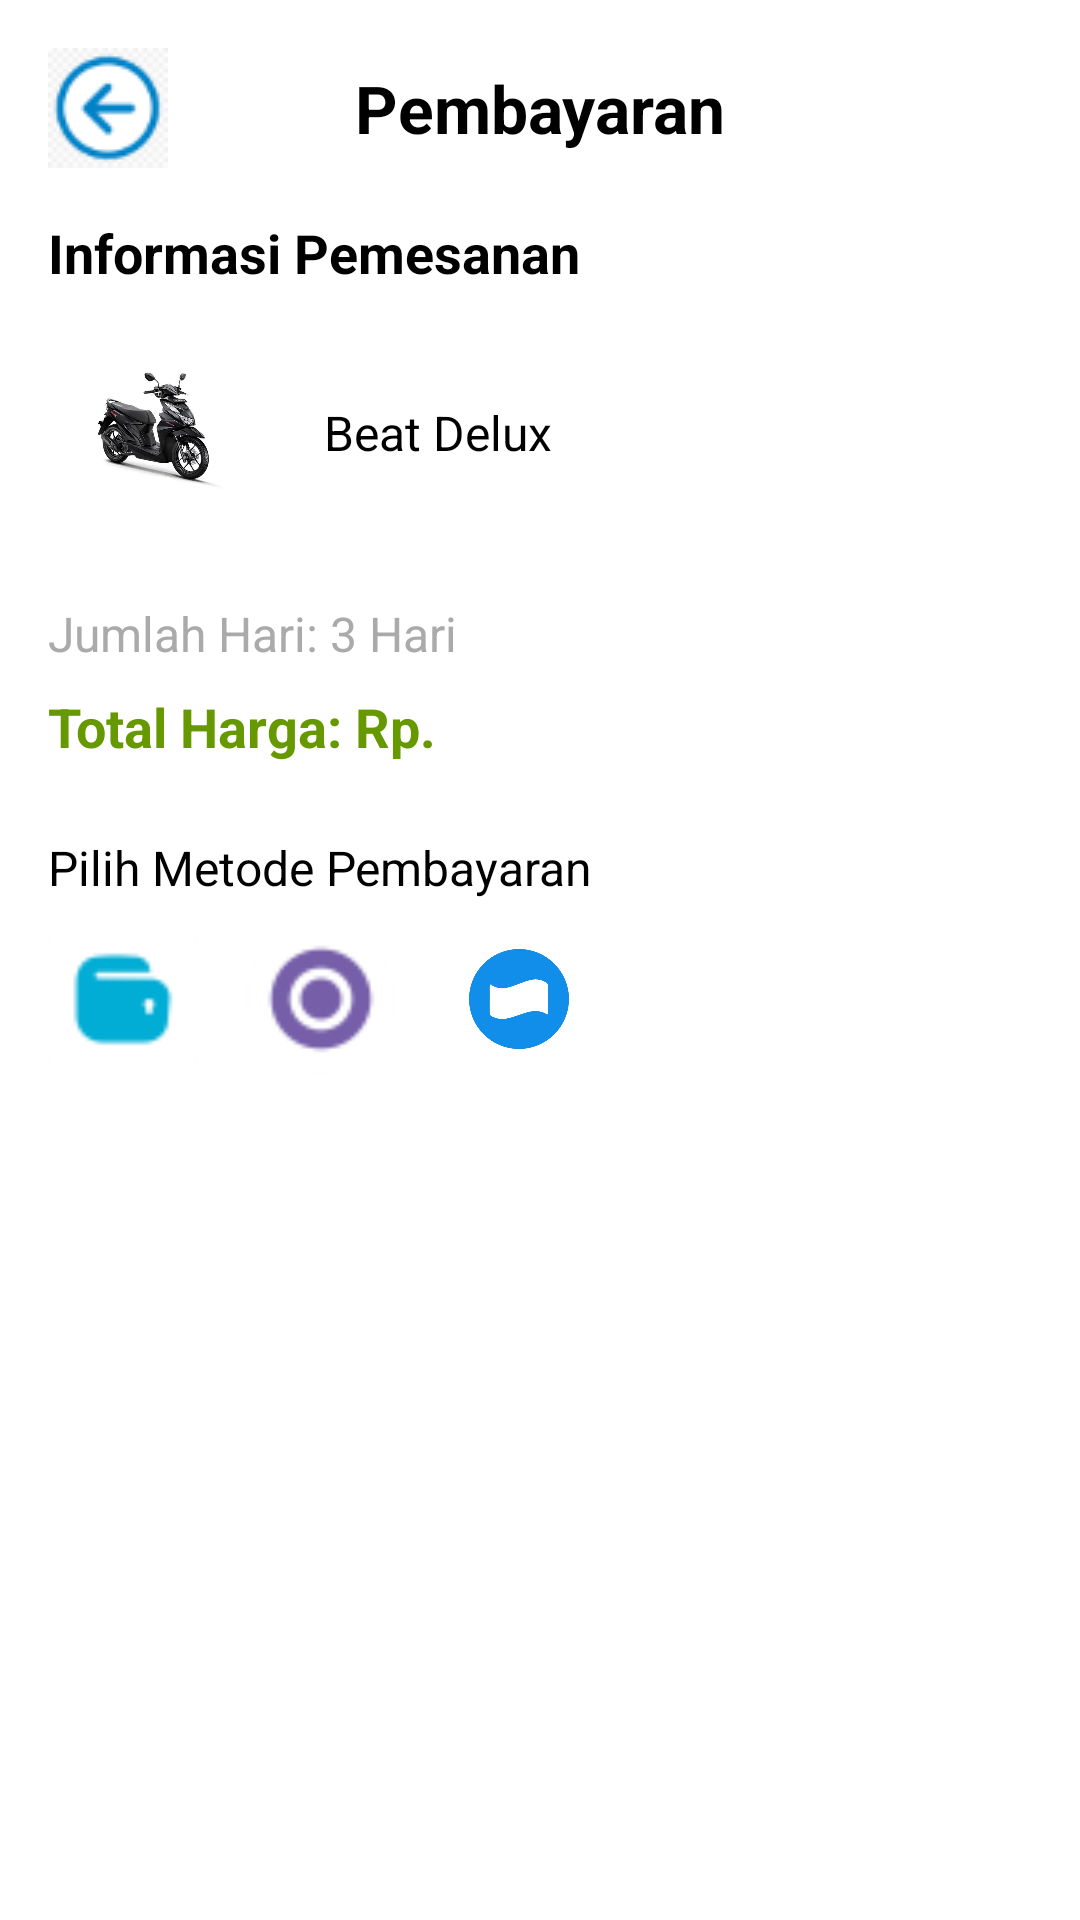

Named icons in this screenshot (1080px×1920px) and their centers, [x,y]:
Back: [107,108]
